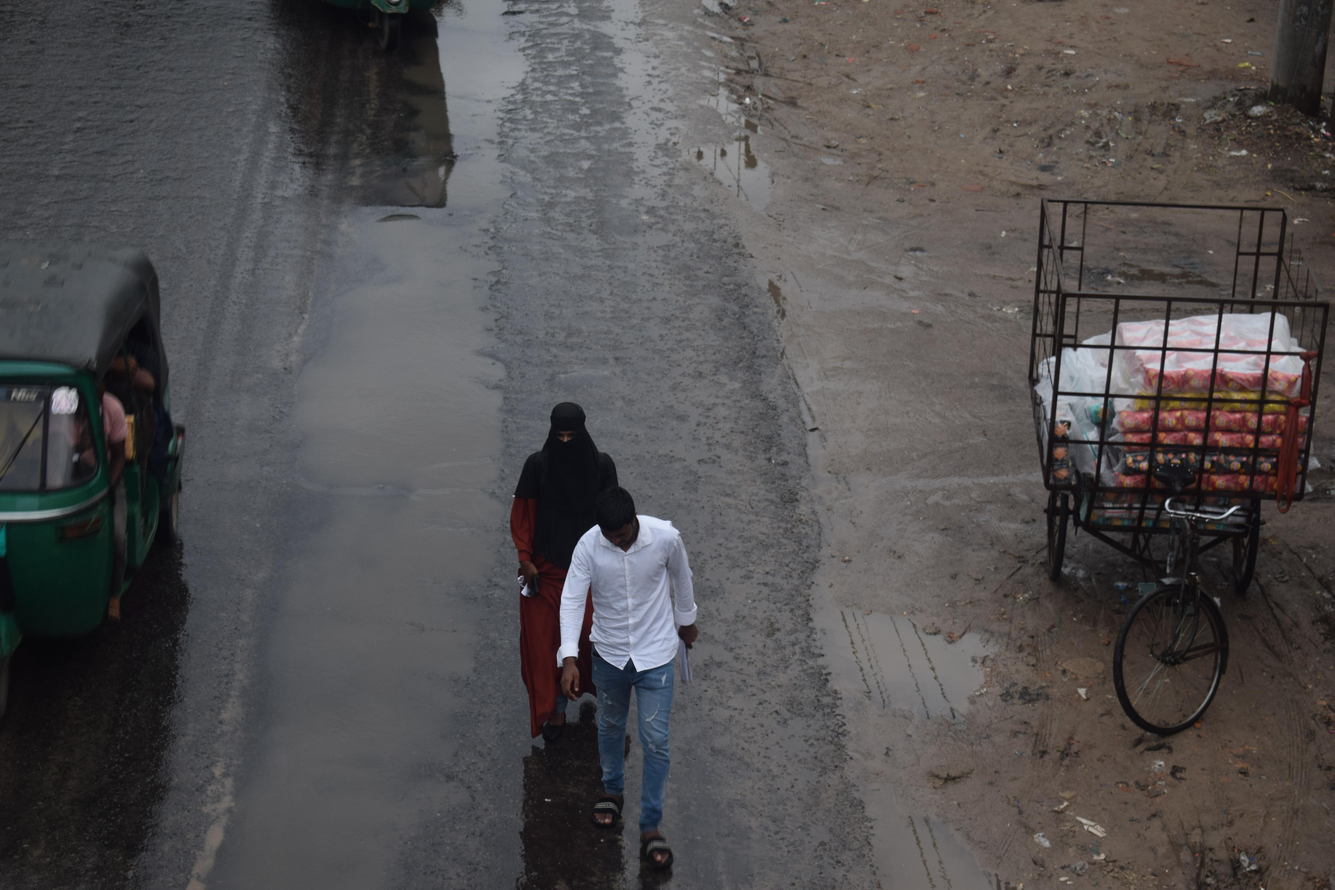Car: (933, 124, 1335, 770)
